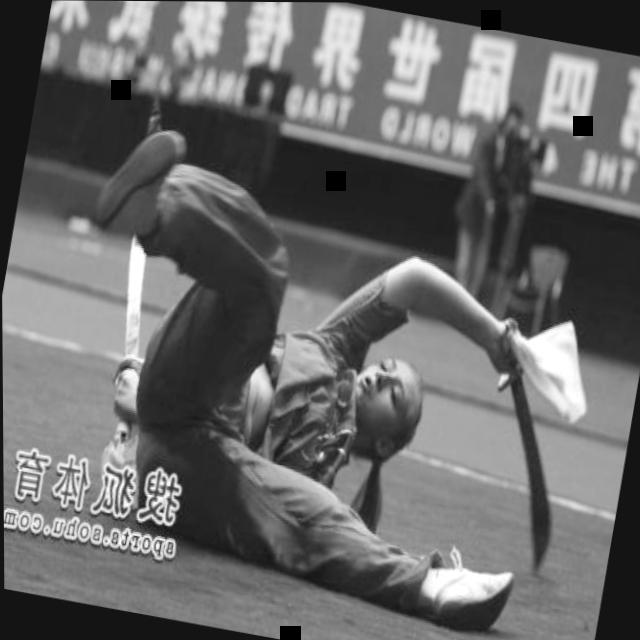Fall-Detected: (41, 118, 600, 640)
